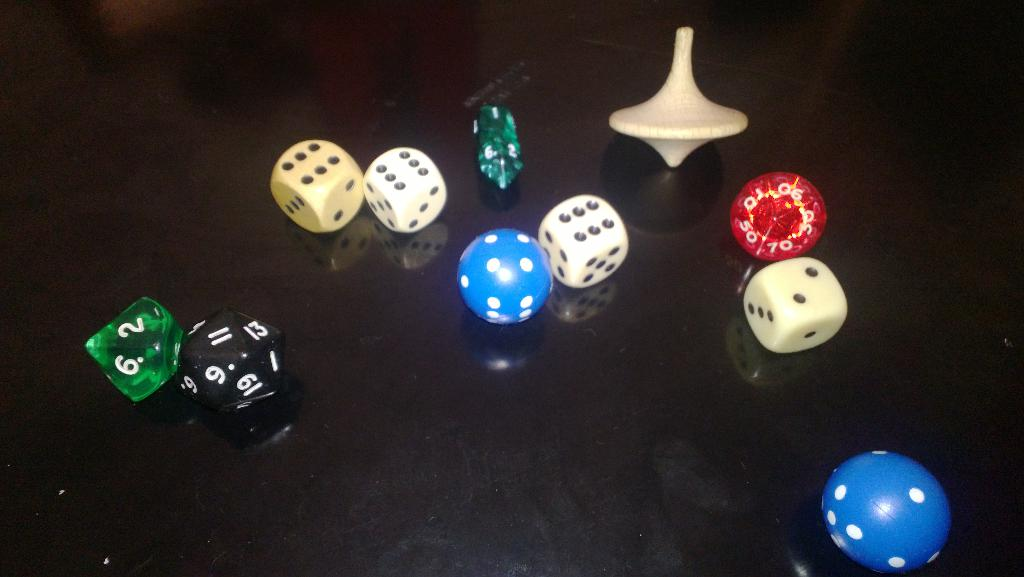Ball: (824, 453, 952, 573), (456, 226, 556, 317)
